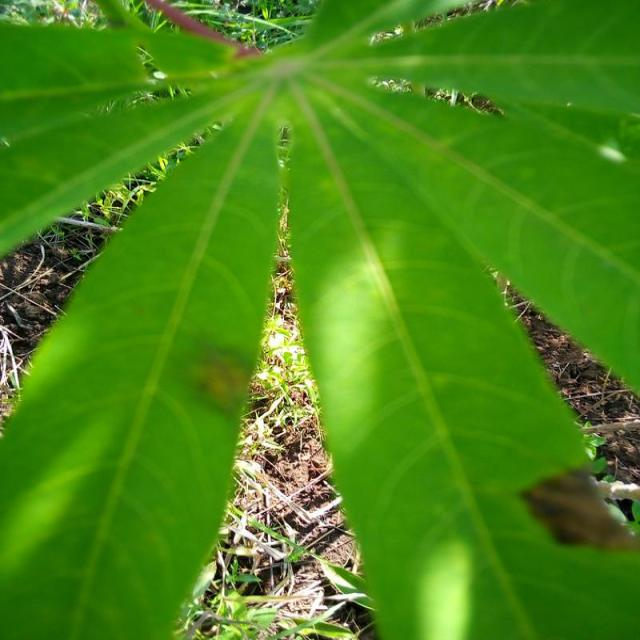cassava leaf: (0, 0, 638, 639), (0, 87, 281, 638)
